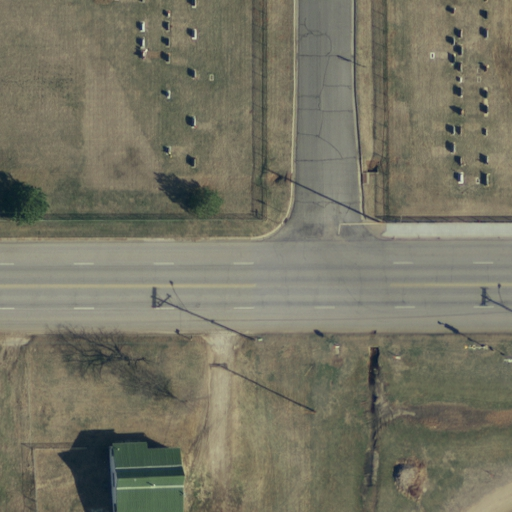DT: (295, 400, 327, 423), (238, 328, 270, 349), (370, 211, 394, 233)
